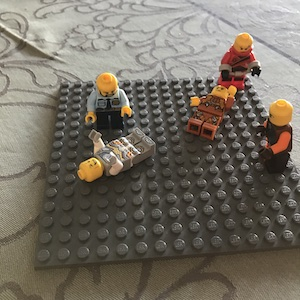Lego: (74, 126, 158, 189), (83, 71, 133, 138), (184, 84, 239, 141), (255, 98, 294, 174), (213, 30, 259, 90)
